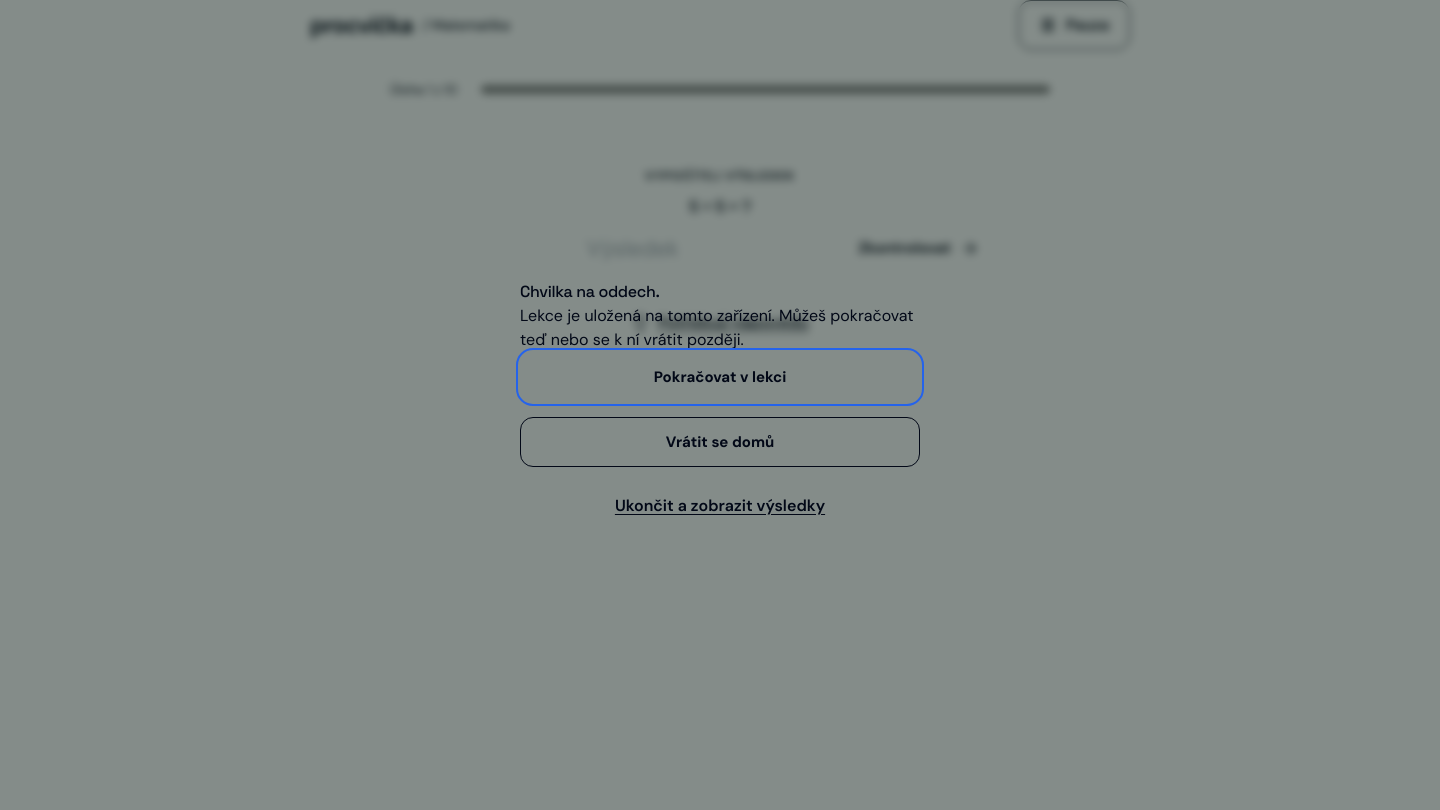
Test case: production lesson controls and persistence › restores a paused session and isolates it from another profile
Earlier steps of the test are not shown.
Later steps or results of the test are not shown.
Check: the heading "Chvilka na oddech." is shown, box [520,281,660,302]
Click the button "Pokračovat v lekci" at (720, 377), box [520,352,920,402]
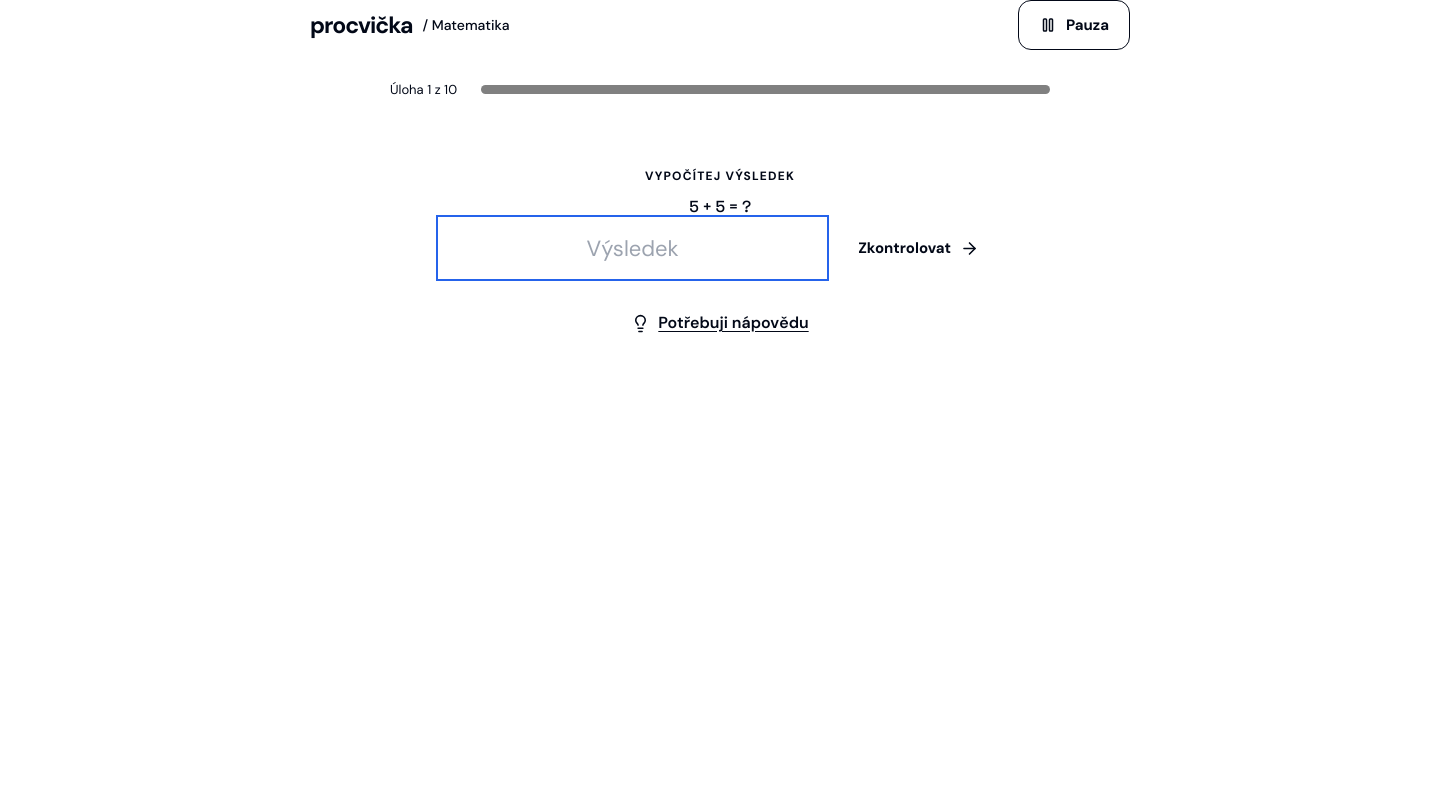
Click the button "Pauza" at (1074, 25), box [1018,0,1130,50]
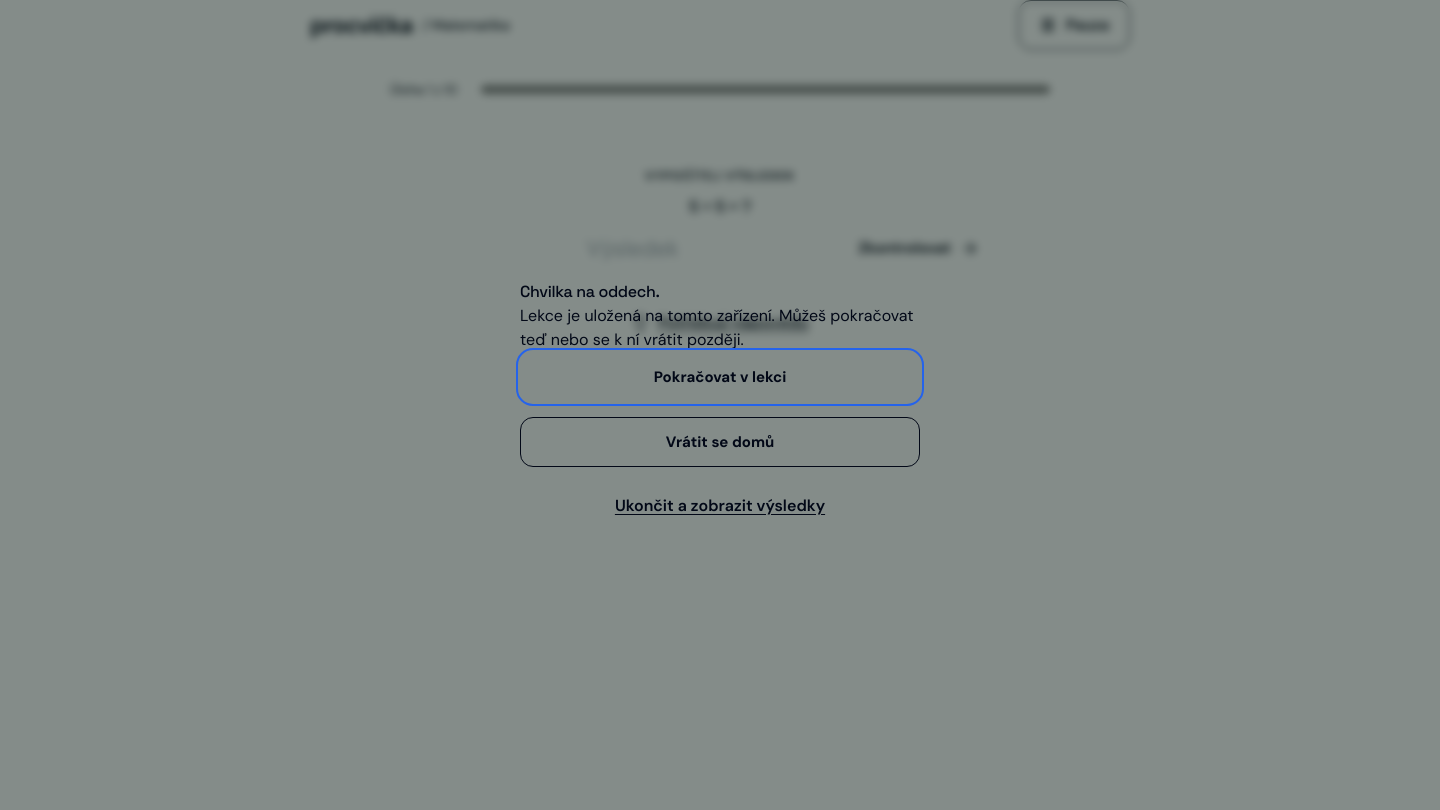
Click the button "Ukončit a zobrazit výsledky" at (720, 506), box [520,482,920,530]
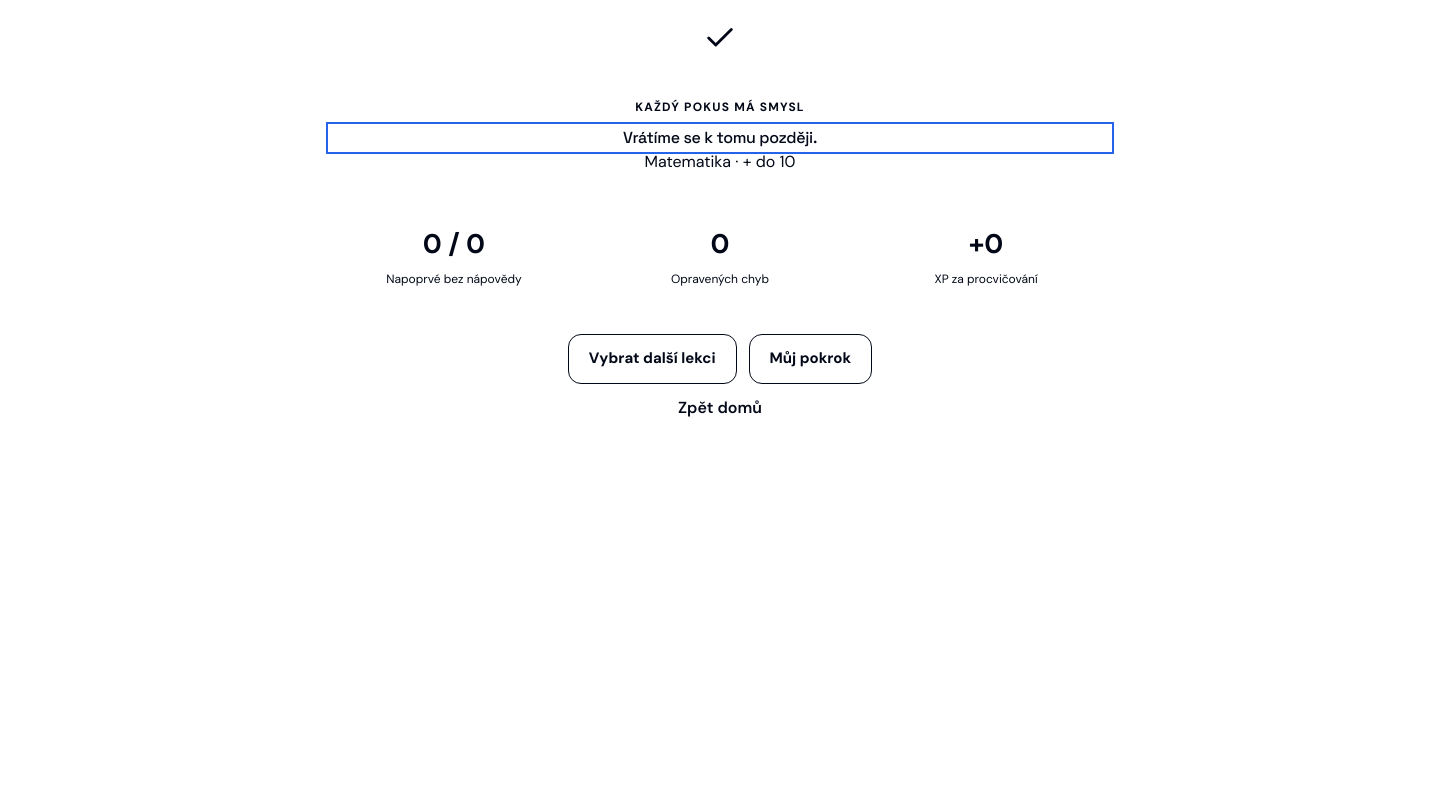
Check: the heading "Vrátíme se k tomu později." is shown, box [623,127,817,148]
